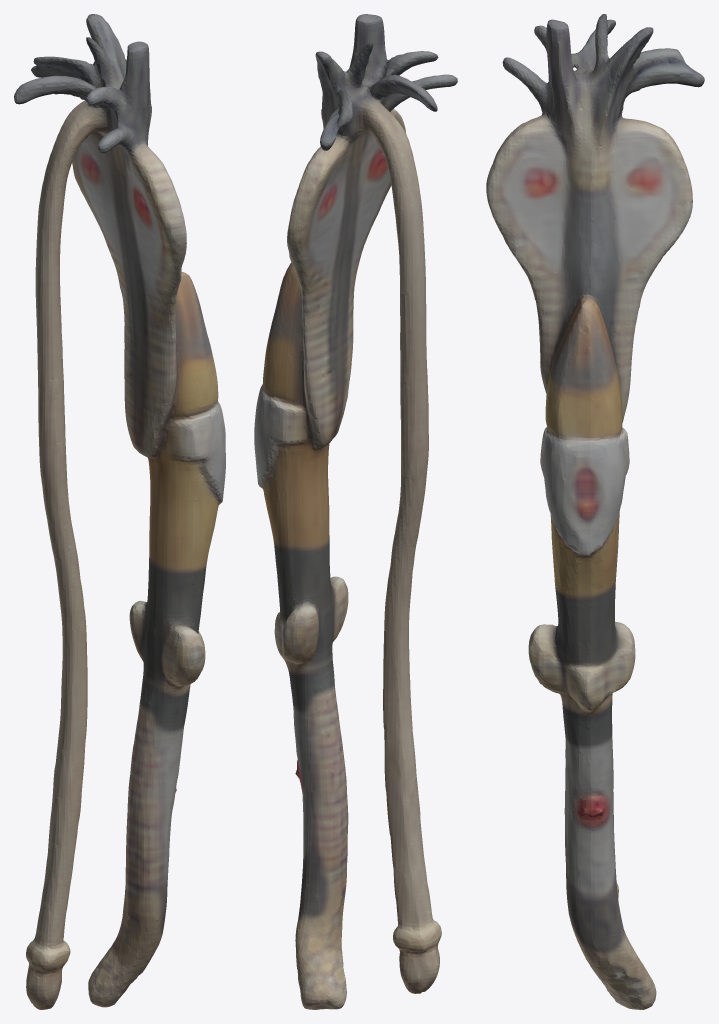
File: Headdress.glb
The picture shows the model from 3 angles, left to right: view 1: azimuth 30°, elevation 25°; view 2: azimuth 150°, elevation 25°; view 3: azimuth 270°, elevation 25°; orthographic projection. The views are drawn at different scales.
Parts seen in each view (by area): view 1: A_Decorative_Native_American_Feathered_Headdress; view 2: A_Decorative_Native_American_Feathered_Headdress; view 3: A_Decorative_Native_American_Feathered_Headdress.
Part boxes in pixels (<box>): A_Decorative_Native_American_Feathered_Headdress: <box>14,14,225,1009</box>; A_Decorative_Native_American_Feathered_Headdress: <box>254,14,457,1009</box>; A_Decorative_Native_American_Feathered_Headdress: <box>486,14,704,1009</box>.
Size of the model in its own units: 0.2032 by 0.9938 by 0.201.
